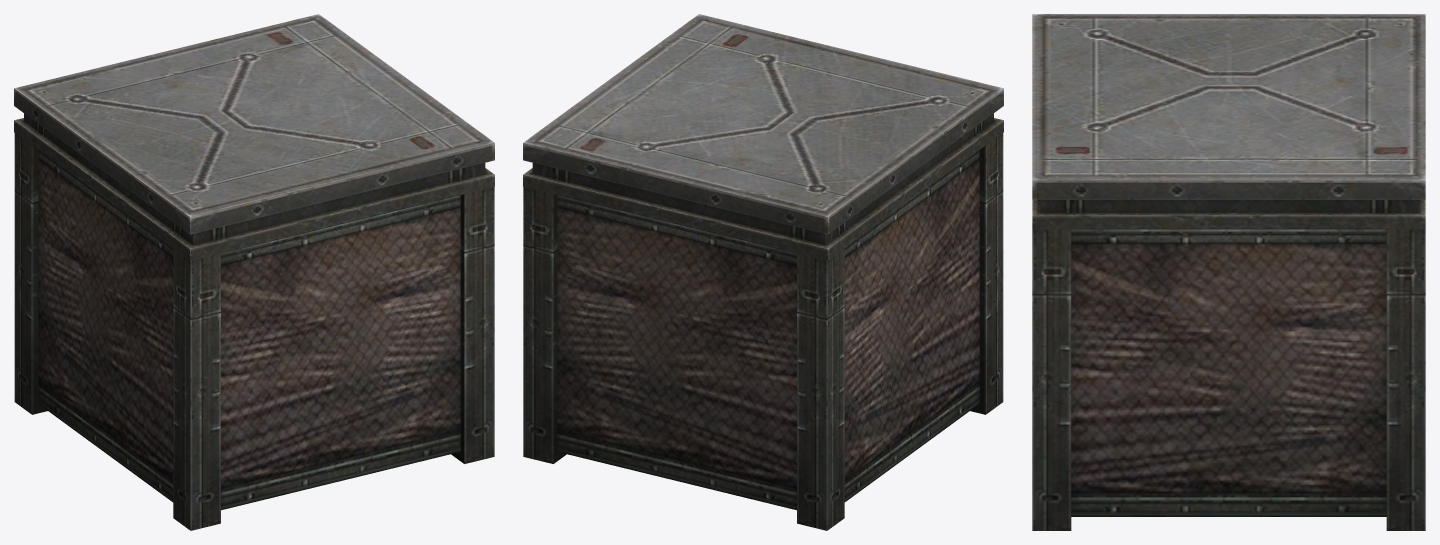
Rendered from Vehicle_Box002.glb.
3 renders of one model, left to right at view 1: azimuth 30°, elevation 25°; view 2: azimuth 150°, elevation 25°; view 3: azimuth 270°, elevation 25°, orthographic. The views are drawn at different scales.
Visible parts, largest first — view 1: tianwang_box002; view 2: tianwang_box002; view 3: tianwang_box002.
Boxes of the visible parts, <box> form: tianwang_box002: <box>14,14,494,530</box>; tianwang_box002: <box>523,14,1003,530</box>; tianwang_box002: <box>1032,14,1425,530</box>.
Bounding box in the file's own units: 1.15 × 1.13 × 1.15.
Materials: 1 (1 with a texture image).
